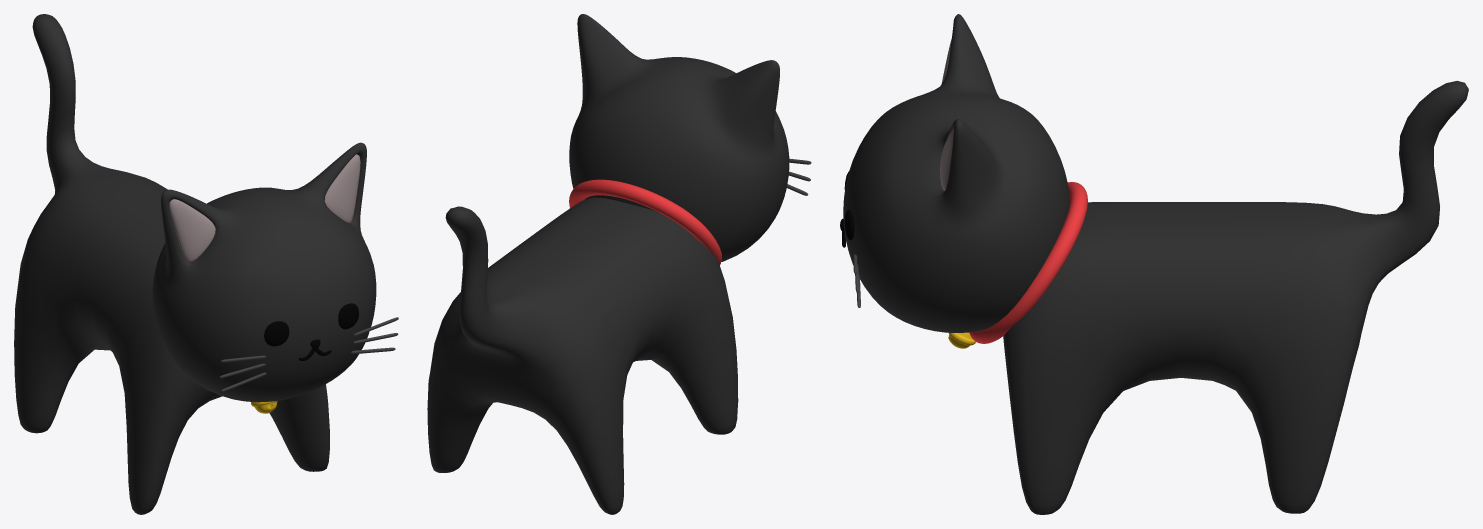
The model's file is cat.glb.
The picture shows the model from 3 angles, left to right: view 1: azimuth 30°, elevation 25°; view 2: azimuth 150°, elevation 25°; view 3: azimuth 270°, elevation 25°; orthographic projection. The views are drawn at different scales.
Visible parts, largest first — view 1: Cube, 立方体, 立方体.002, 立方体.005, 立方体.001; view 2: Cube, 立方体, トーラス.001; view 3: Cube, 立方体, トーラス.001.
Part boxes in pixels (x1=…): Cube: x1=14, y1=14, x2=329, y2=514; 立方体: x1=152, y1=142, x2=376, y2=402; 立方体.002: x1=169, y1=154, x2=360, y2=261; 立方体.005: x1=219, y1=317, x2=398, y2=392; 立方体.001: x1=264, y1=303, x2=359, y2=346; Cube: x1=427, y1=197, x2=738, y2=514; 立方体: x1=569, y1=14, x2=789, y2=261; トーラス.001: x1=569, y1=179, x2=721, y2=265; Cube: x1=1003, y1=80, x2=1468, y2=514; 立方体: x1=843, y1=14, x2=1069, y2=332; トーラス.001: x1=969, y1=182, x2=1087, y2=343.
Size of the model in its own units: 1.83 by 3.01 by 4.34.
